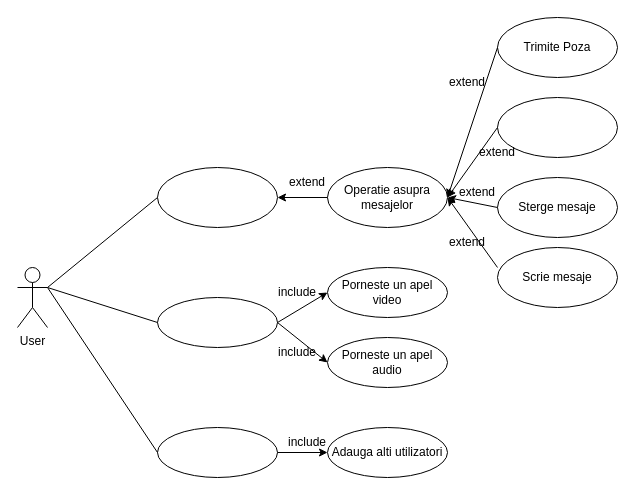
The diagram is 635 pixels wide and 495 high, and some of its shapes have lost their labels. Each missing label, with the box of its shape:
Alege conversatie: (156, 166, 278, 228)
Creeaza grup: (156, 426, 278, 478)
Porneste un apel: (156, 296, 278, 348)
Sterge Poza: (496, 96, 618, 158)
